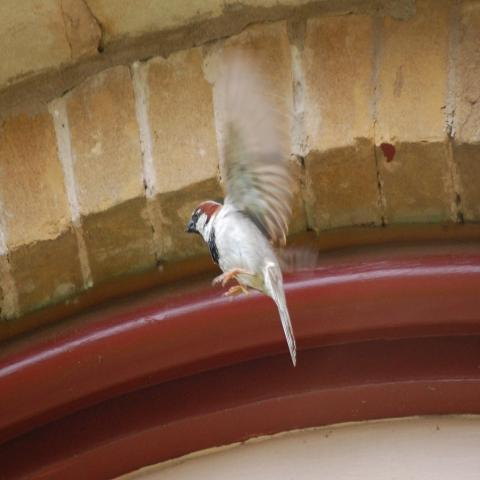bird: (182, 48, 313, 369)
